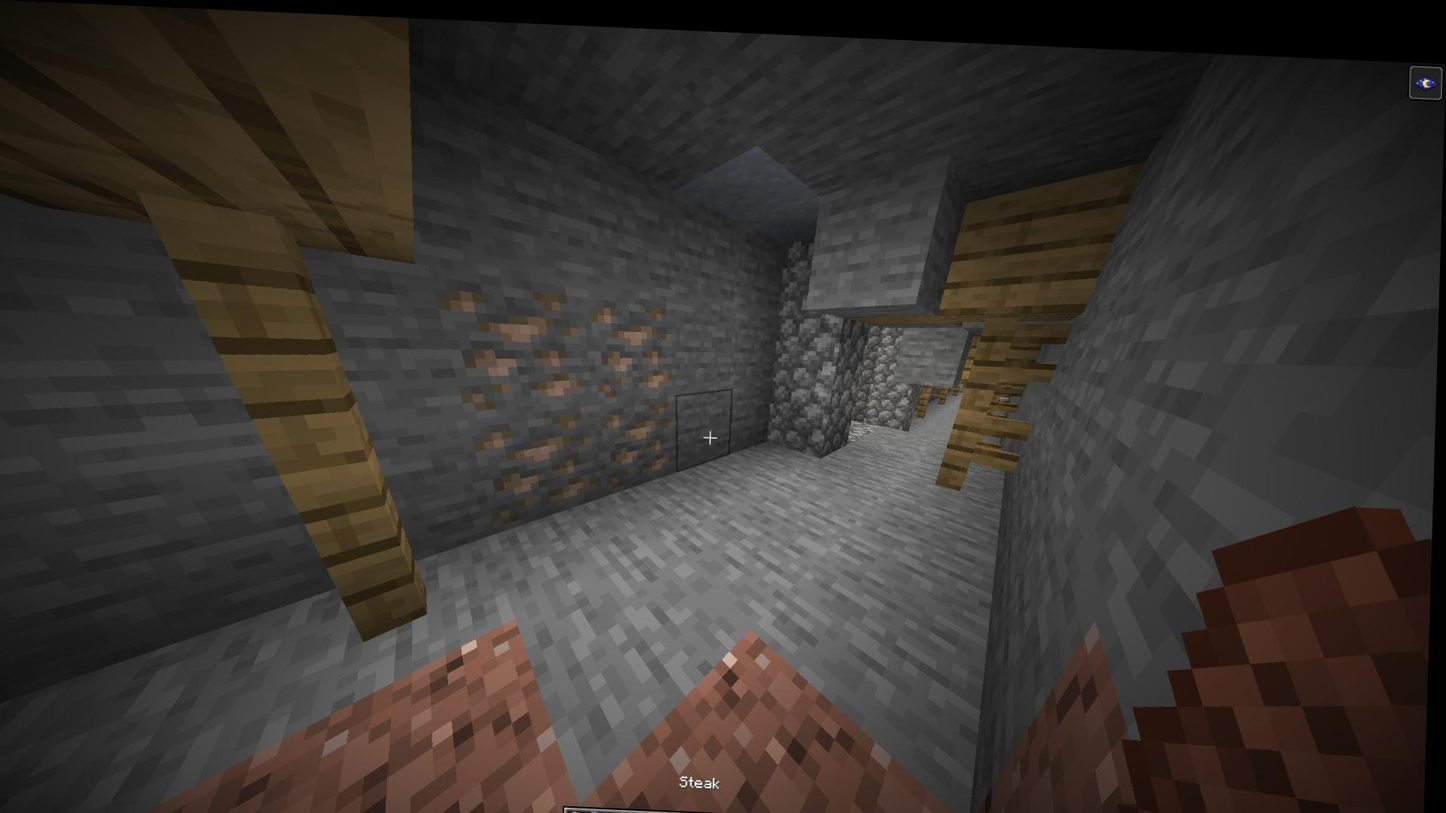iron ore: (435, 280, 589, 404), (477, 400, 599, 514), (590, 288, 679, 396), (600, 392, 683, 482)
